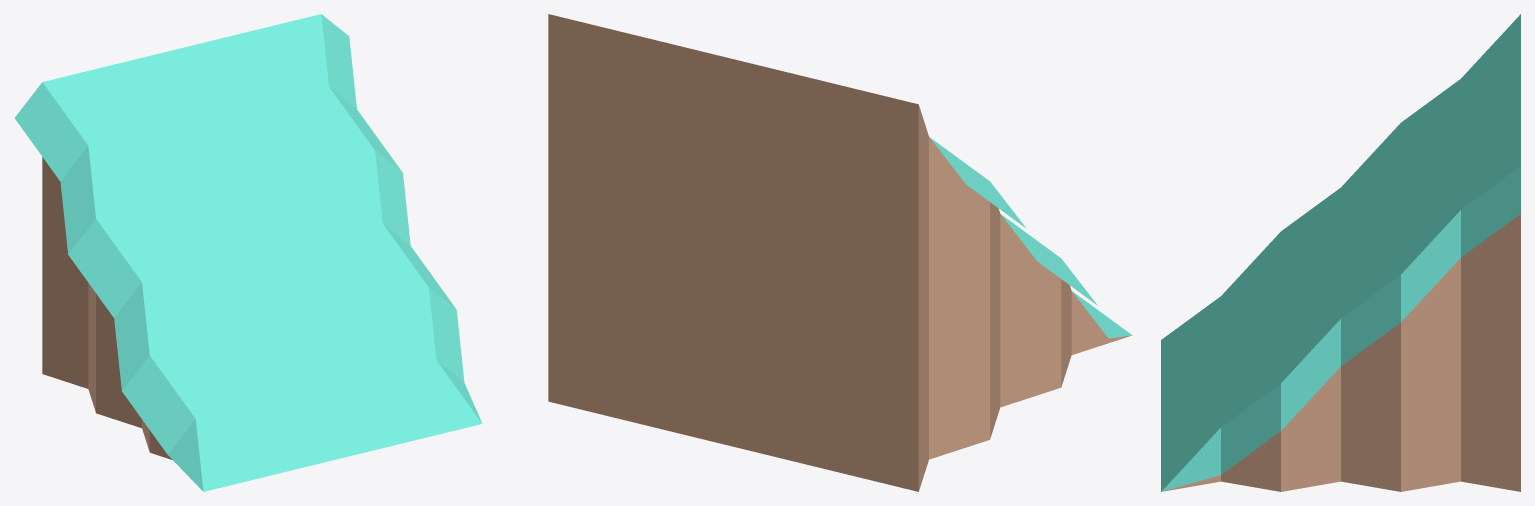
The picture shows the model from 3 angles, left to right: view 1: azimuth 30°, elevation 25°; view 2: azimuth 150°, elevation 25°; view 3: azimuth 270°, elevation 25°; orthographic projection. The views are drawn at different scales.
Parts seen in each view (by area): view 1: cliff_blockSlope_rock; view 2: cliff_blockSlope_rock; view 3: cliff_blockSlope_rock.
Boxes of the visible parts, bbox=[...] form: cliff_blockSlope_rock: bbox=[14, 14, 482, 491]; cliff_blockSlope_rock: bbox=[548, 14, 1132, 491]; cliff_blockSlope_rock: bbox=[1161, 14, 1520, 491].
Size of the model in its own units: 1.2 by 1 by 1.
